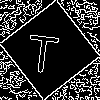T: (25, 25, 61, 74)
